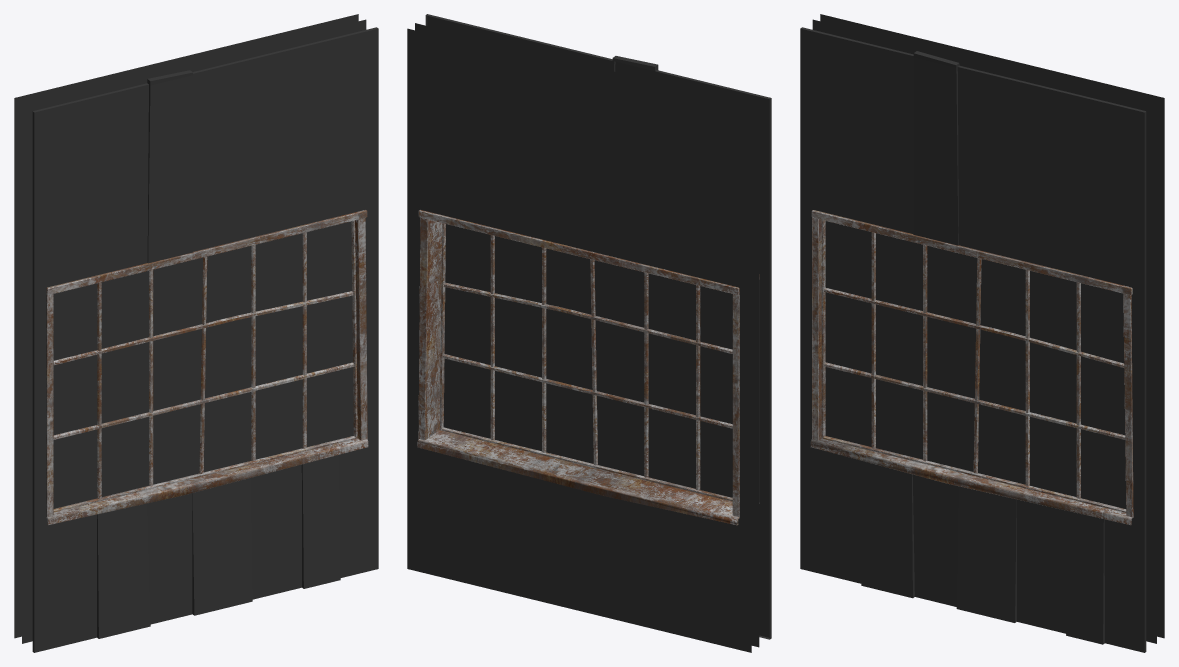
File: SM_Wall_Windows_Small.FBX
3 renders of one model, left to right at view 1: azimuth 30°, elevation 25°; view 2: azimuth 150°, elevation 25°; view 3: azimuth 330°, elevation 25°, orthographic.
Visible parts, largest first — view 1: SM_Wall_Windows_Small_LOD0; view 2: SM_Wall_Windows_Small_LOD0; view 3: SM_Wall_Windows_Small_LOD0.
Part boxes in pixels (left/top/right/bottom): SM_Wall_Windows_Small_LOD0: left=14, top=14, right=378, bottom=652; SM_Wall_Windows_Small_LOD0: left=407, top=14, right=771, bottom=652; SM_Wall_Windows_Small_LOD0: left=800, top=14, right=1164, bottom=652.
Size of what is drawn, in the model's own units: 200 by 24.14 by 302.
